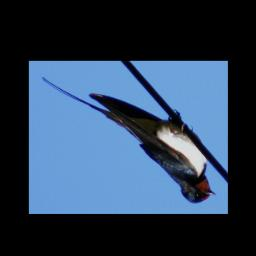Swallow: (39, 76, 217, 204)
